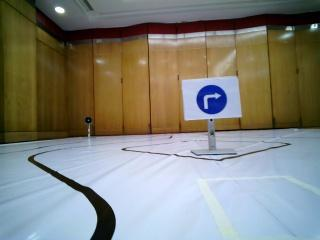right: (182, 77, 242, 119)
